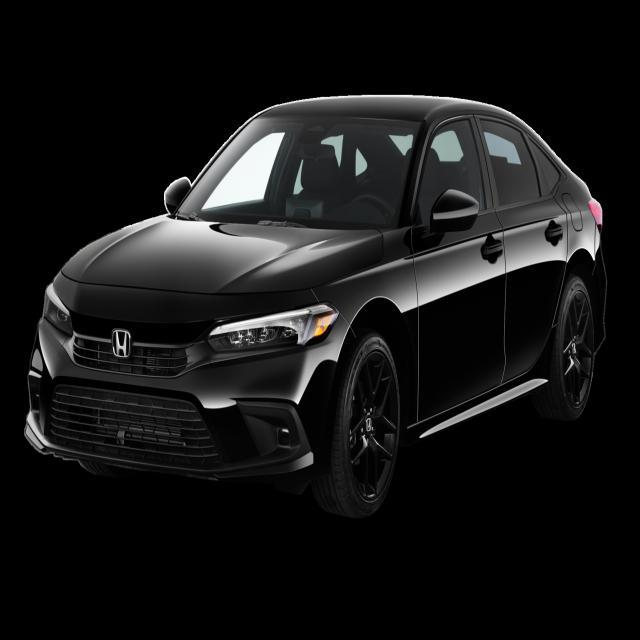pickup: (22, 92, 608, 520)
